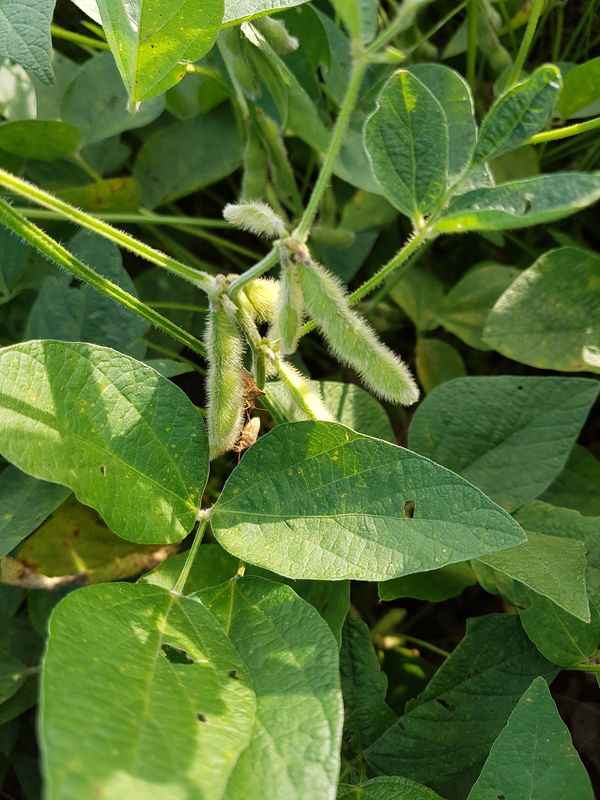Euschistus_heros_adulto: (232, 362, 271, 413)
